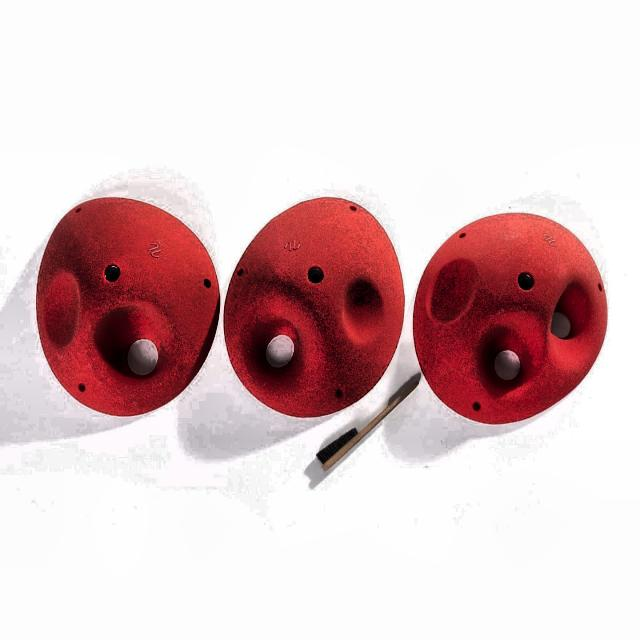Hold: (416, 212, 607, 425), (35, 196, 216, 419), (232, 199, 402, 413)
